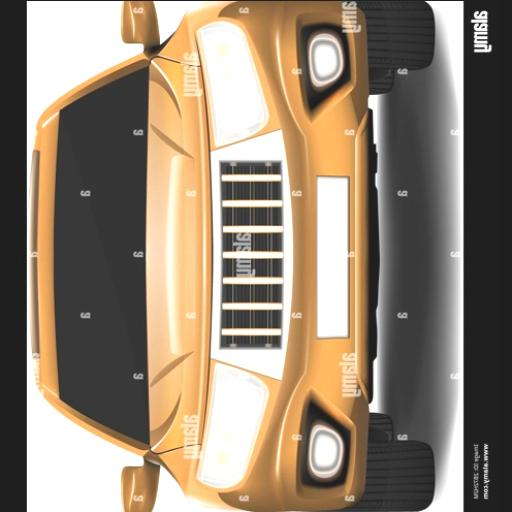suv: (28, 0, 431, 512)
